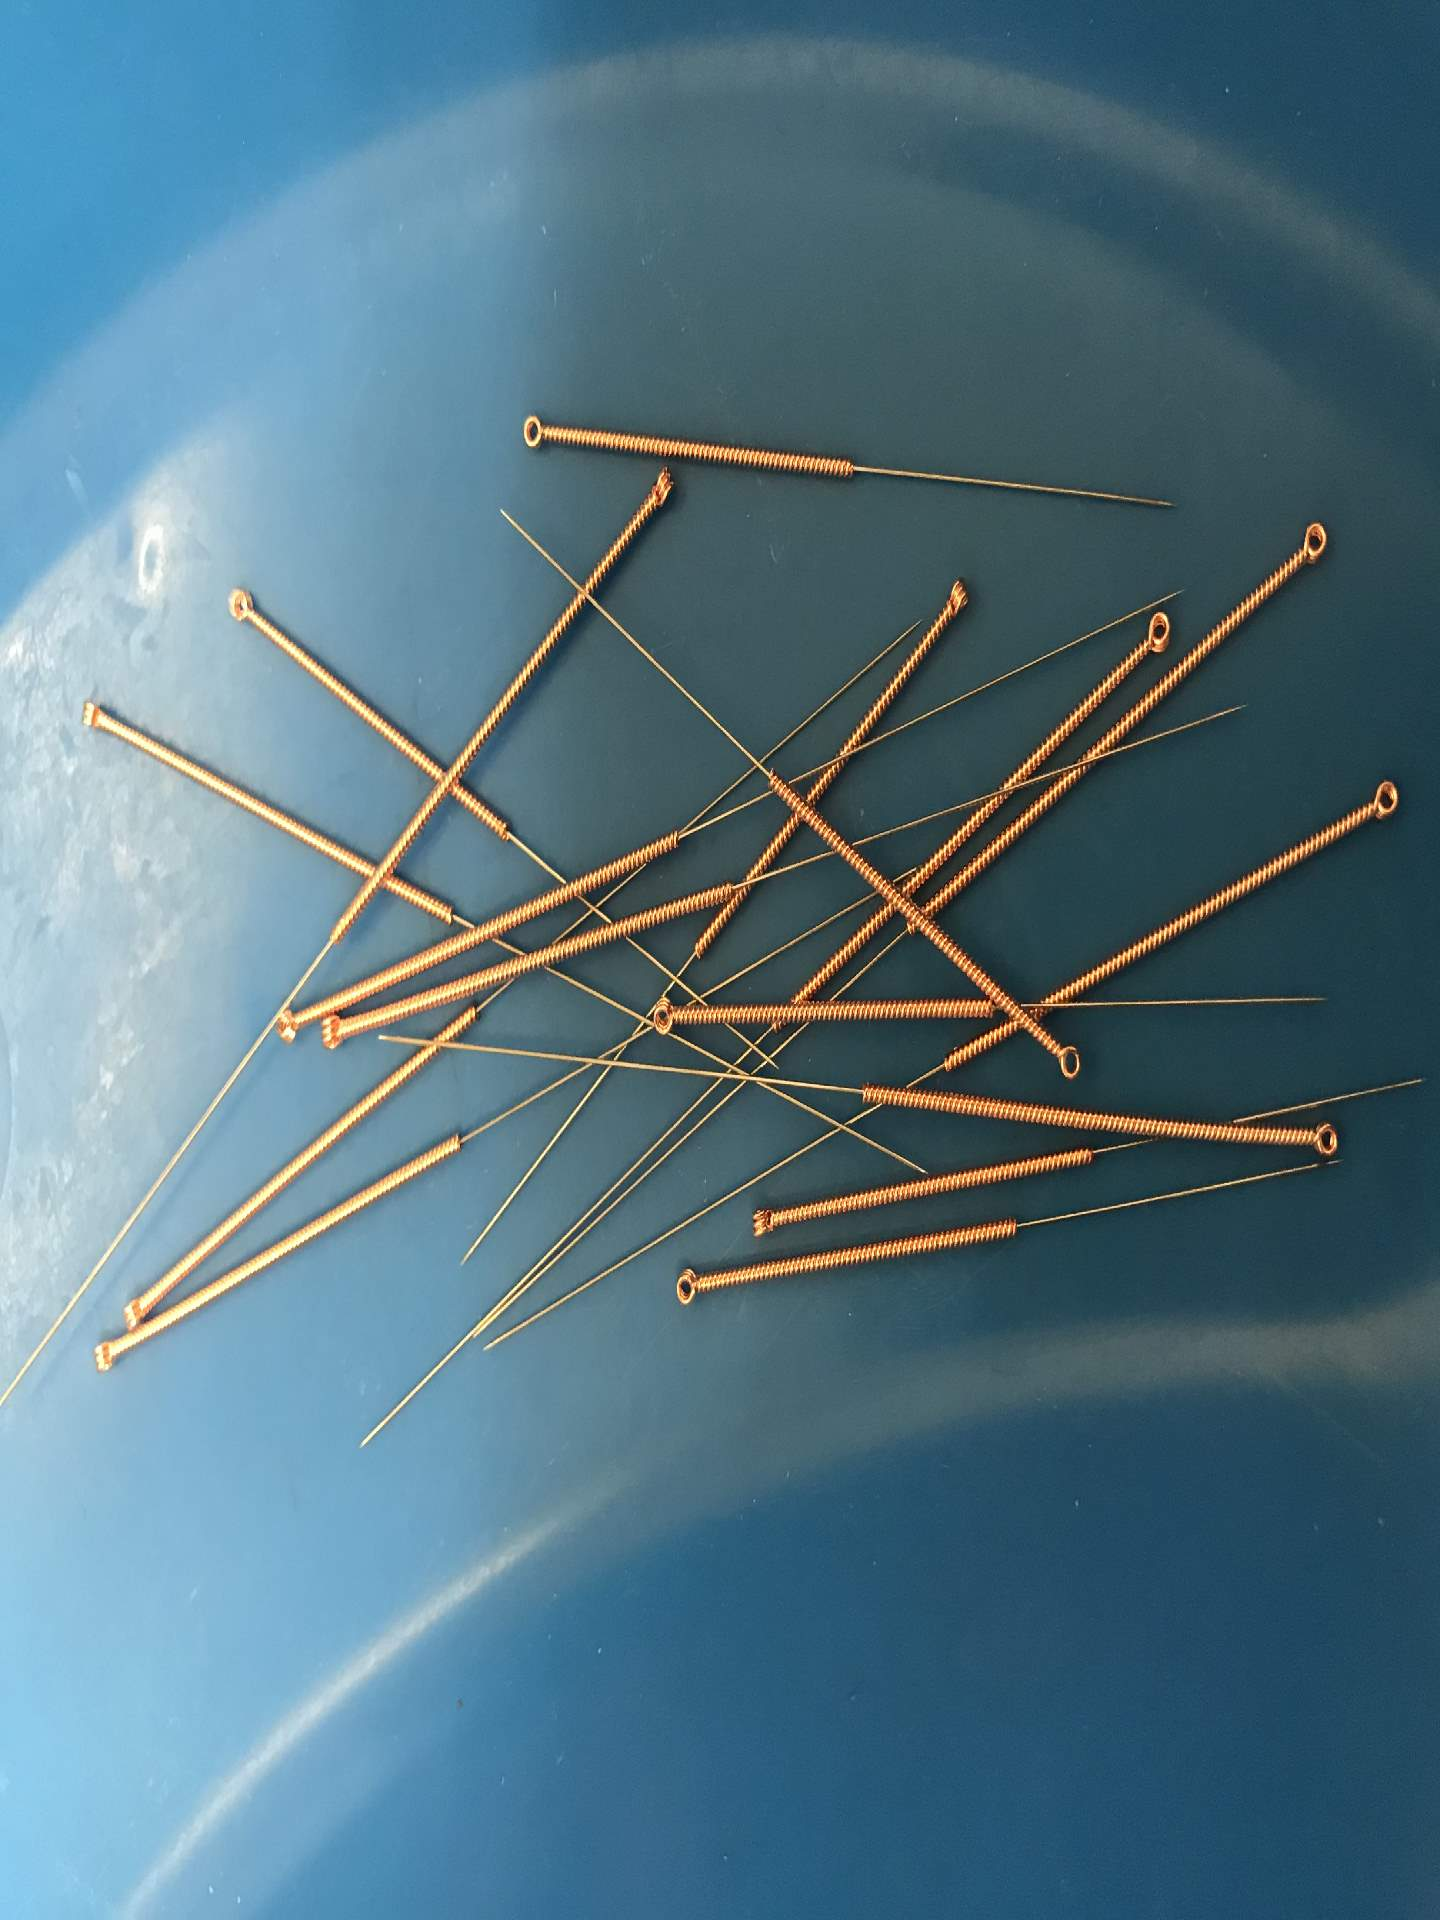needle: (1284, 511, 1339, 574), (1041, 1033, 1095, 1090), (215, 574, 266, 633), (1355, 771, 1405, 831), (67, 688, 119, 742), (664, 1259, 715, 1315), (933, 565, 979, 627), (1298, 1113, 1349, 1166), (740, 1194, 790, 1247), (510, 404, 557, 460), (641, 992, 691, 1043), (262, 1001, 310, 1054), (1131, 605, 1178, 659), (638, 460, 684, 516), (82, 1330, 126, 1383), (309, 1014, 360, 1058), (116, 1282, 157, 1330)
